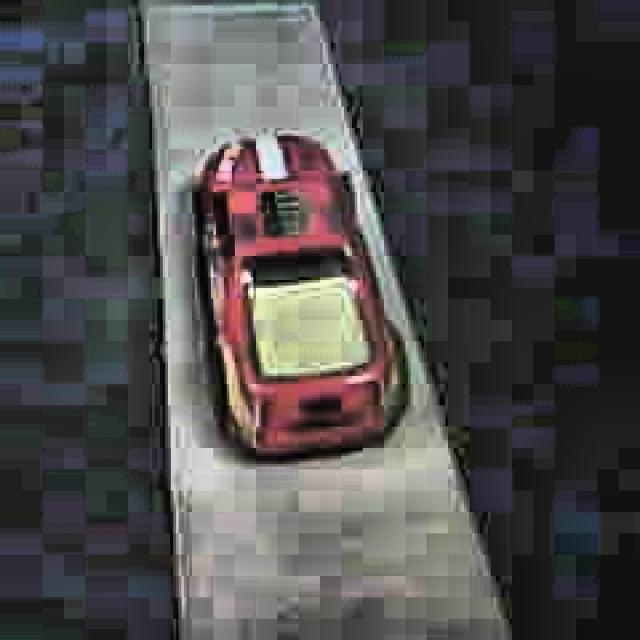car: (191, 130, 410, 466)
